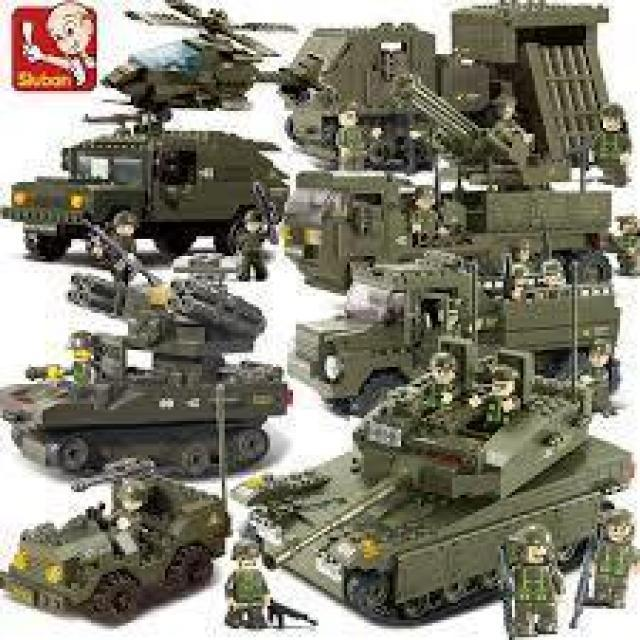MIL_MBT: (307, 360, 631, 613), (303, 1, 619, 181), (1, 331, 274, 457), (7, 479, 223, 602)
